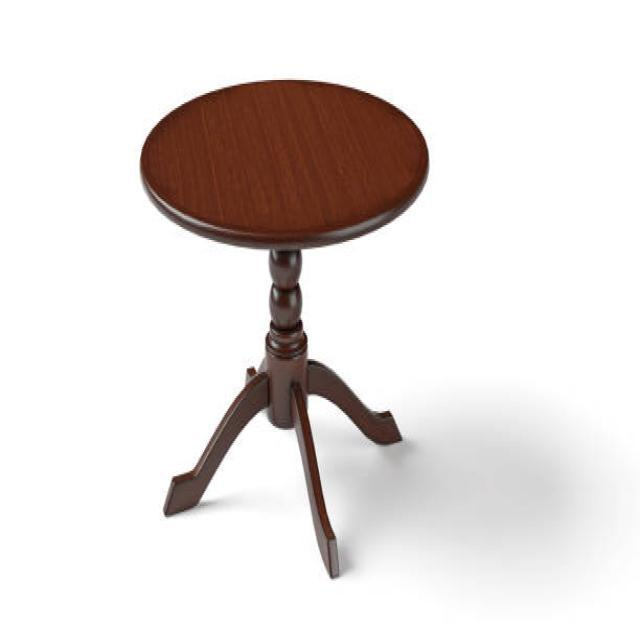table: (138, 76, 430, 579)
